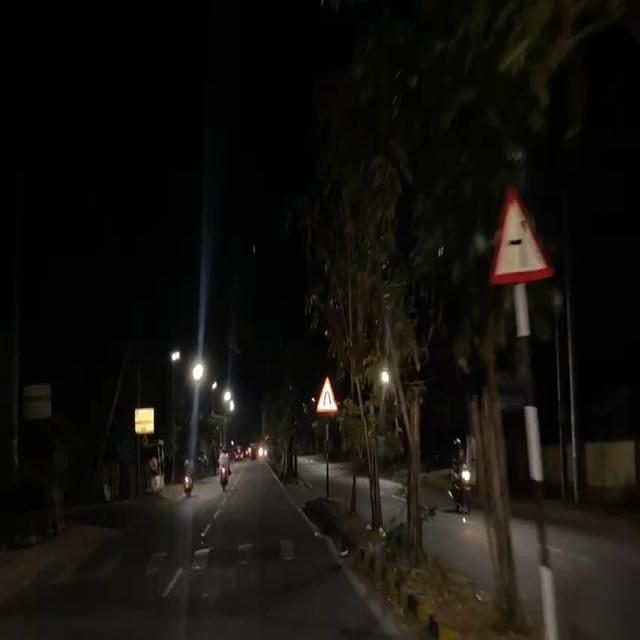bien_cam: (486, 180, 560, 291), (316, 374, 340, 416)
